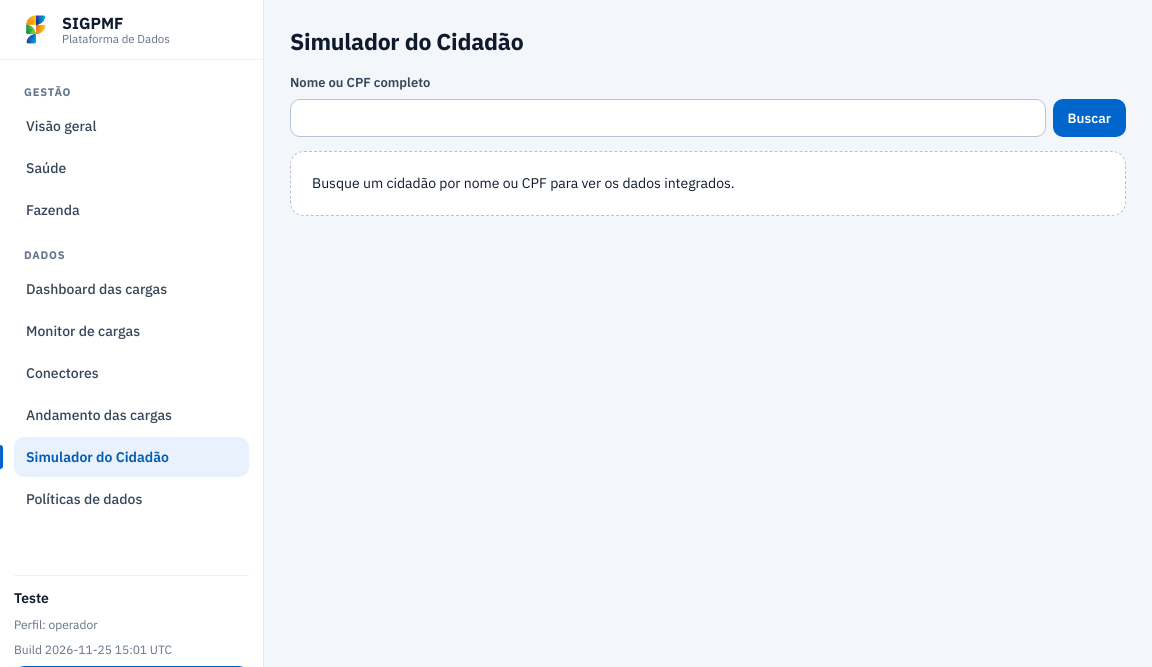
it: ficha do cidadão (tela branca) › lixo, nulos e listas nulas não derrubam a tela
The image size is (1152, 667).
Step 1. Type "Fulano" into the field labelled "Nome ou CPF completo" → (668, 118), box [290,99,1046,137]
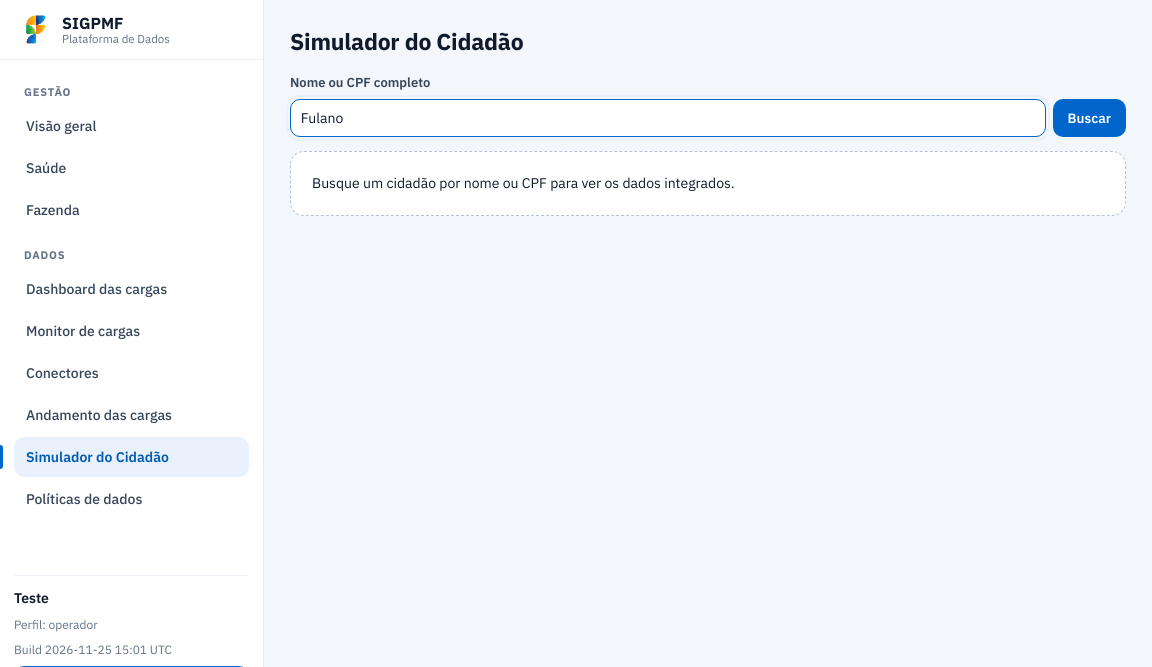
Step 2. Click the button "Buscar" → (1089, 118), box [1053,99,1126,137]
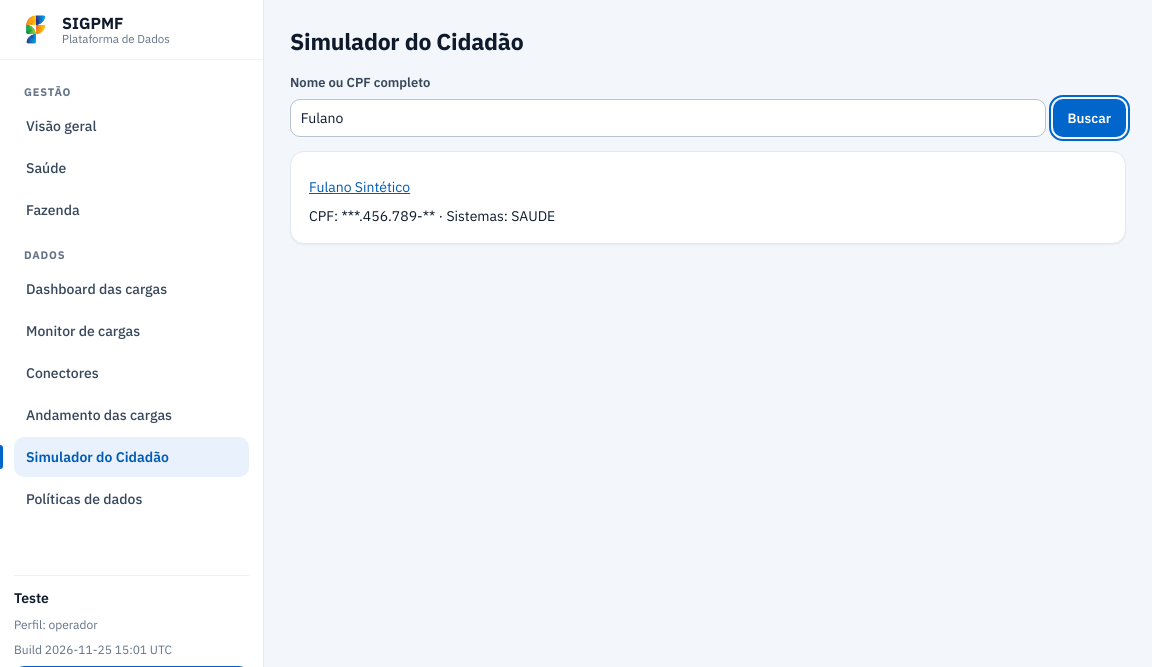
Step 3. Click the button "Fulano Sintético" → (360, 187), box [309,168,410,206]
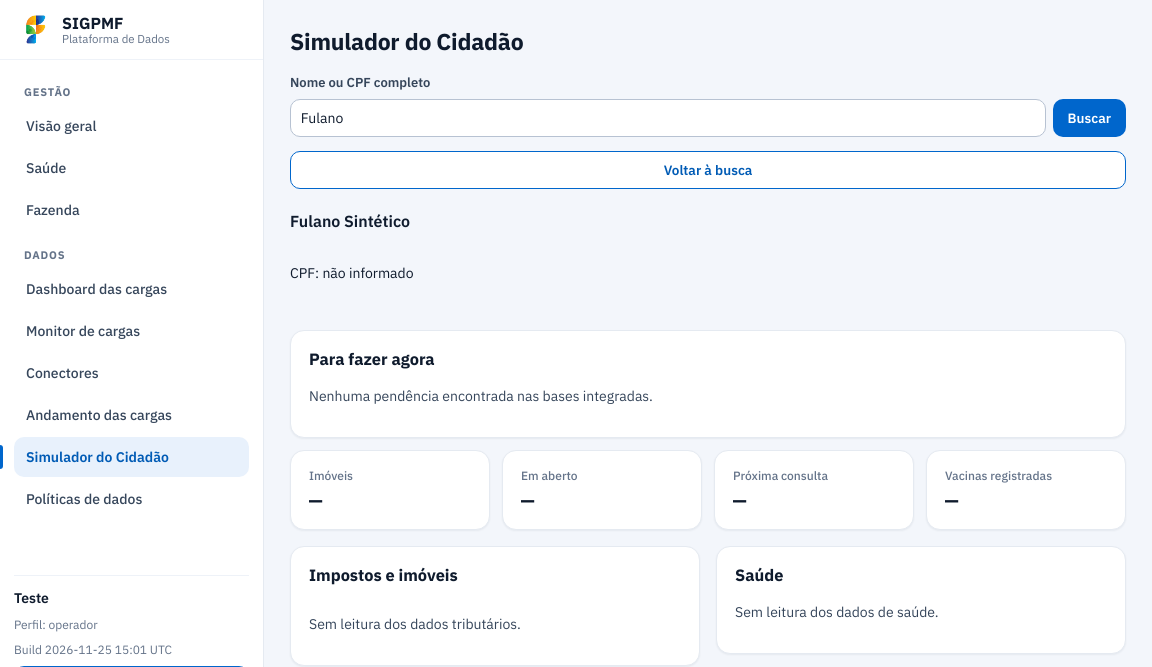
Result: the heading "Fulano Sintético" is shown at [290,211,410,231]
Result: the text with test id "cpf" reads "não informado" at [322,264,414,282]
